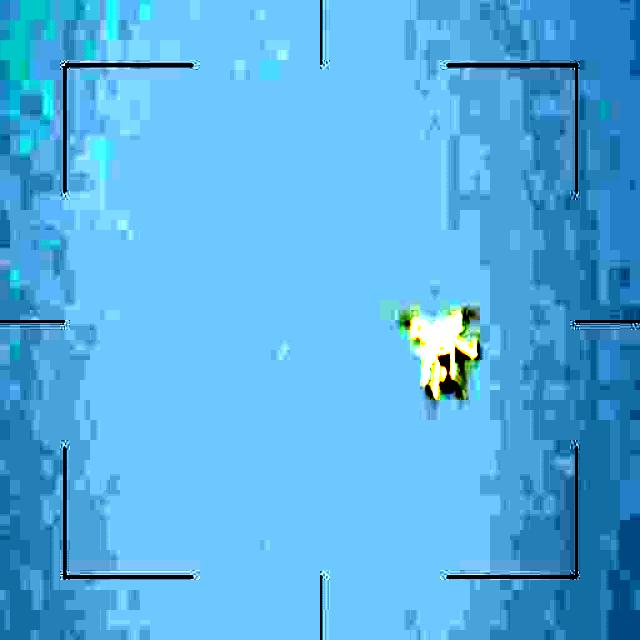bird: (395, 306, 484, 396)
